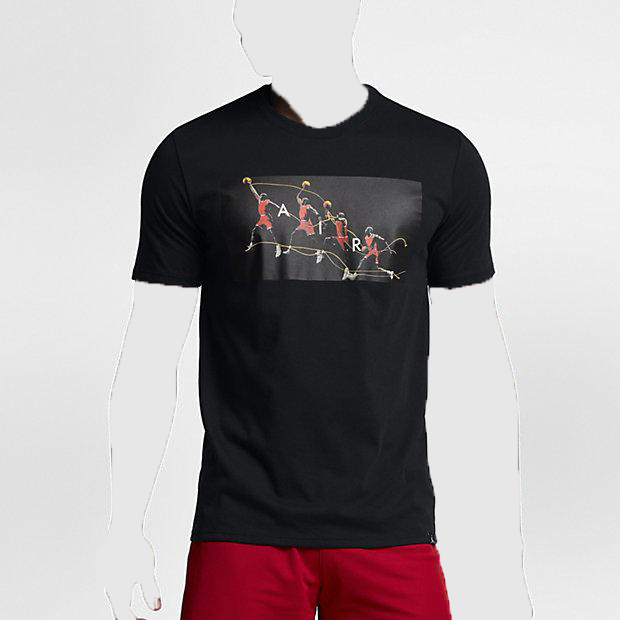teeshirt: (126, 79, 497, 552)
